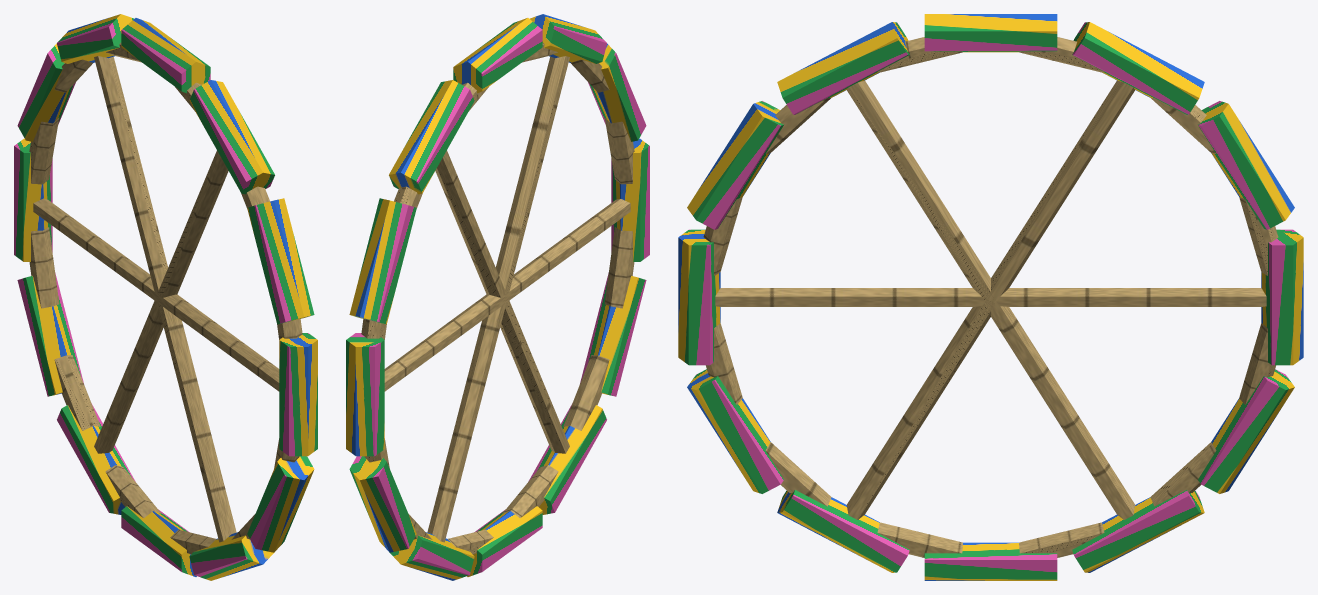
Rendered from torito_rueda.obj.
3 renders of one model, left to right at view 1: azimuth 30°, elevation 25°; view 2: azimuth 150°, elevation 25°; view 3: azimuth 270°, elevation 25°, orthographic. The views are drawn at different scales.
Parts seen in each view (by area): view 1: torito_rueda; view 2: torito_rueda; view 3: torito_rueda.
Part boxes in pixels (x1=…): torito_rueda: x1=14, y1=14, x2=317, y2=580; torito_rueda: x1=346, y1=14, x2=649, y2=580; torito_rueda: x1=678, y1=14, x2=1303, y2=580.
Bounding box in the file's own units: 0.0277 × 0.472 × 0.472.
